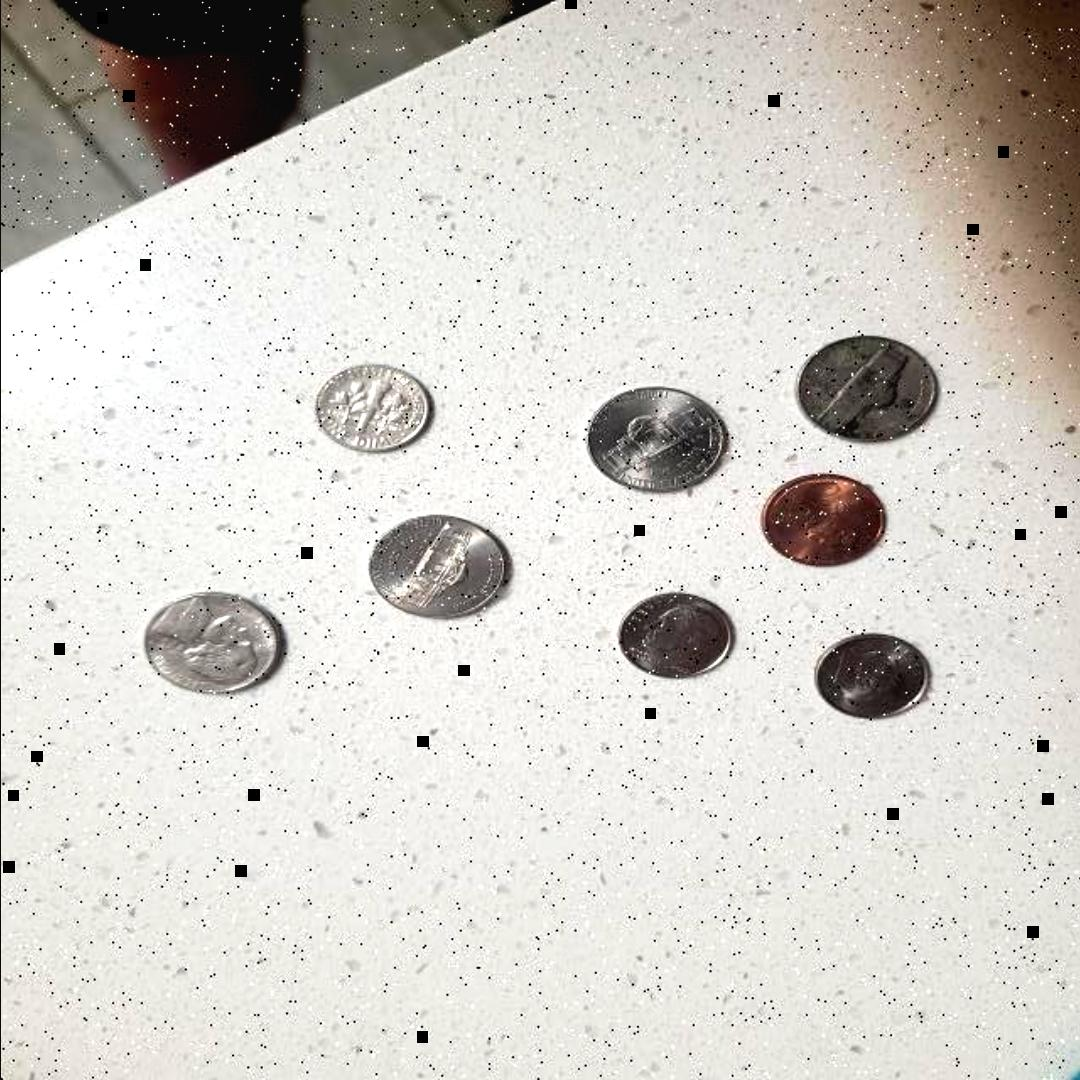Dime: (807, 624, 938, 726), (310, 360, 440, 458), (612, 590, 740, 682)
Nickel: (791, 331, 953, 449), (134, 583, 296, 699), (362, 510, 518, 628), (584, 381, 740, 497)
Penny: (758, 467, 890, 571)
